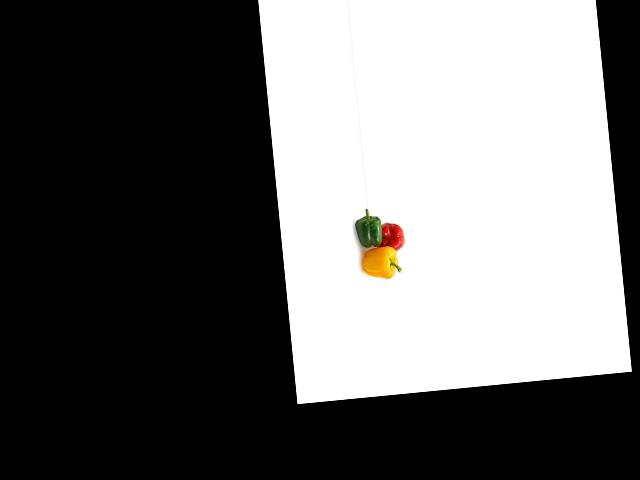bell_pepper: (354, 210, 387, 255)
